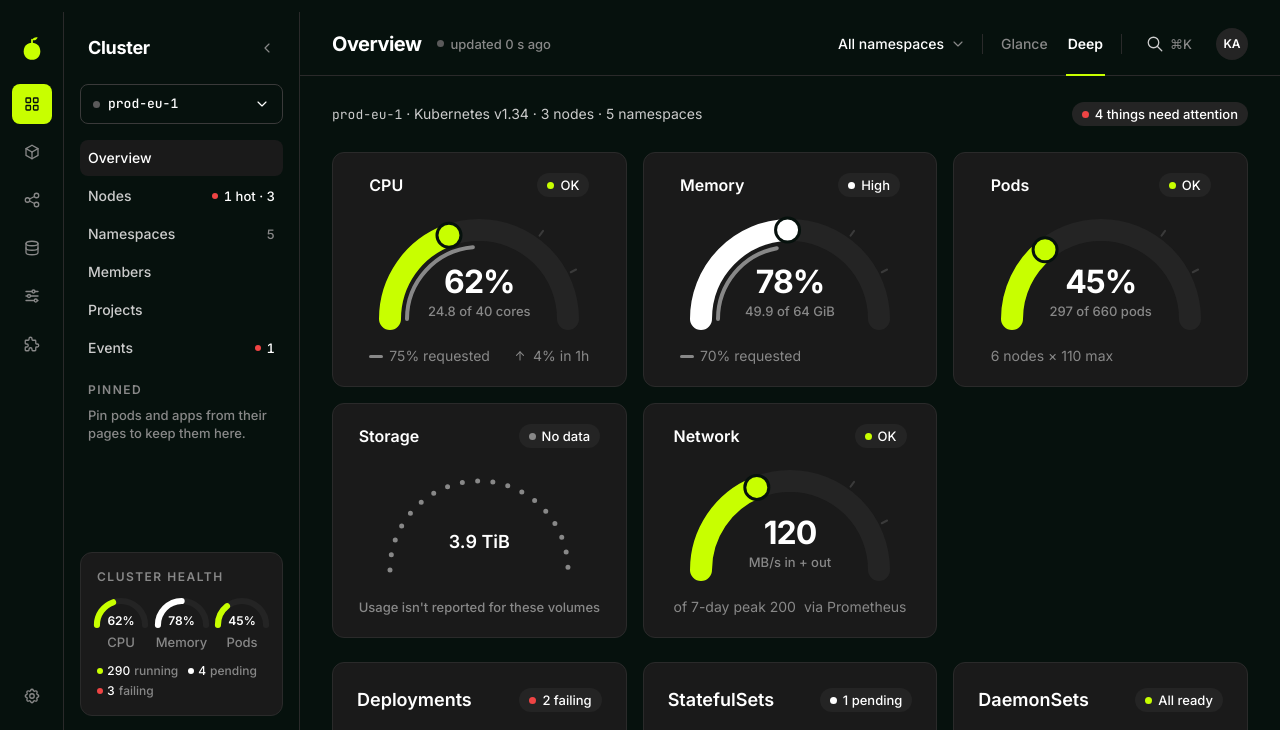
Test: user menu › has no sign-out in local mode
Step 1. Click the button with aria-label "Signed in as kubernetes-admin" → (1232, 44), box x1=1216 y1=28 x2=1248 y2=60
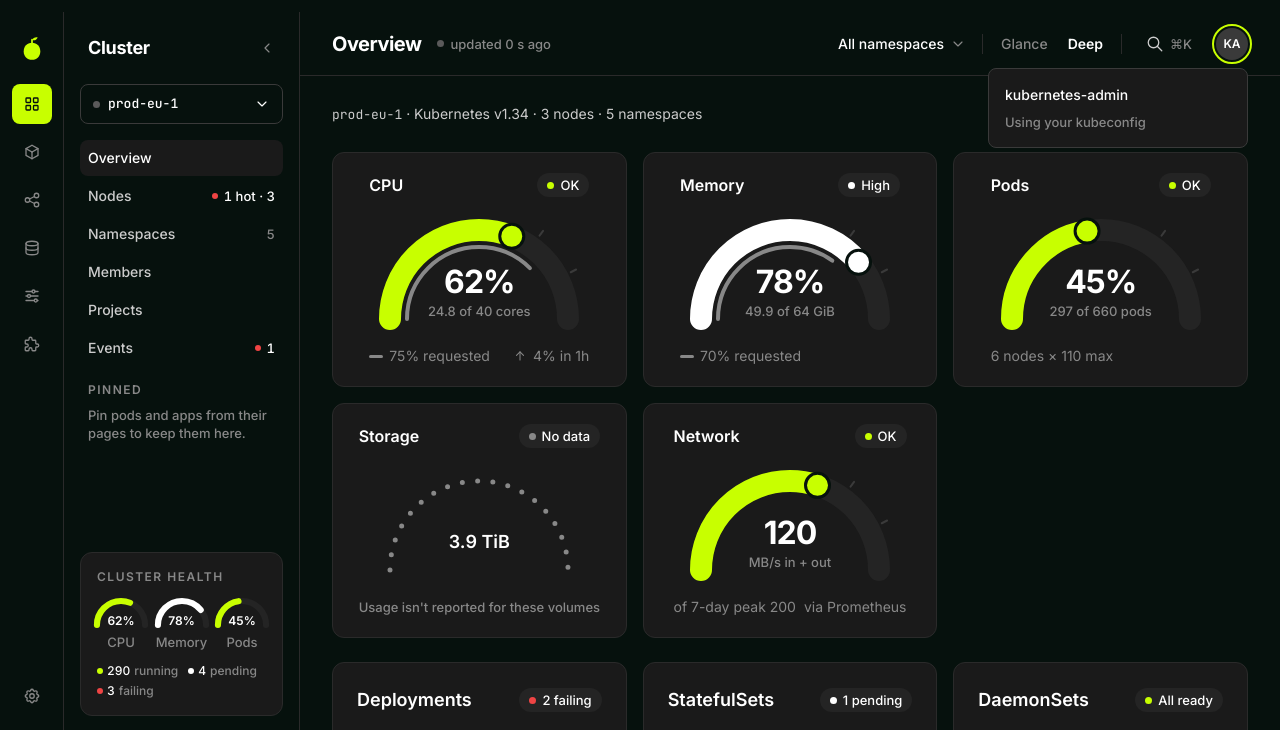
Now the element named "Account" shows "Using your kubeconfig", box x1=1005 y1=114 x2=1146 y2=130
